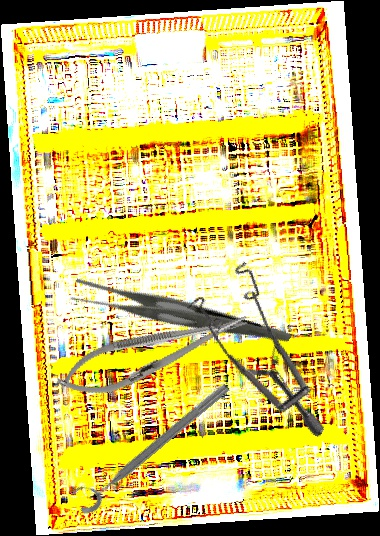Dressing Forceps: (66, 224, 293, 407)
Fixation Ring: (67, 371, 234, 518)
Needle Holder: (49, 297, 257, 410)
Speculum: (162, 248, 376, 438)
